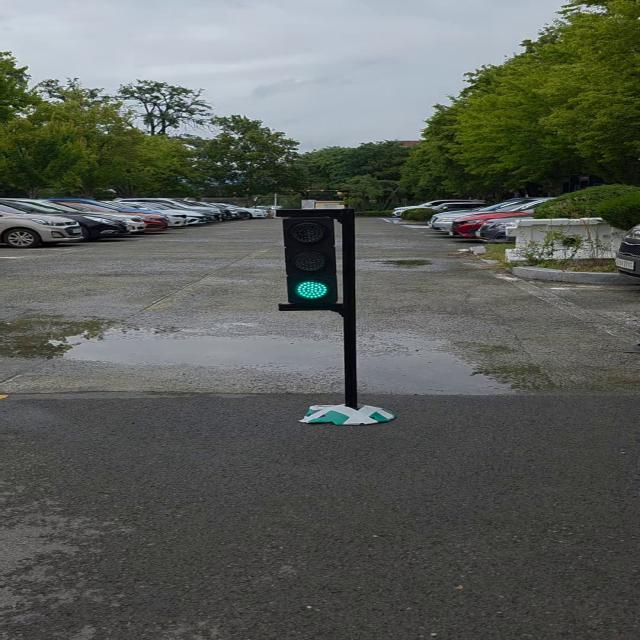green: (283, 213, 342, 307)
